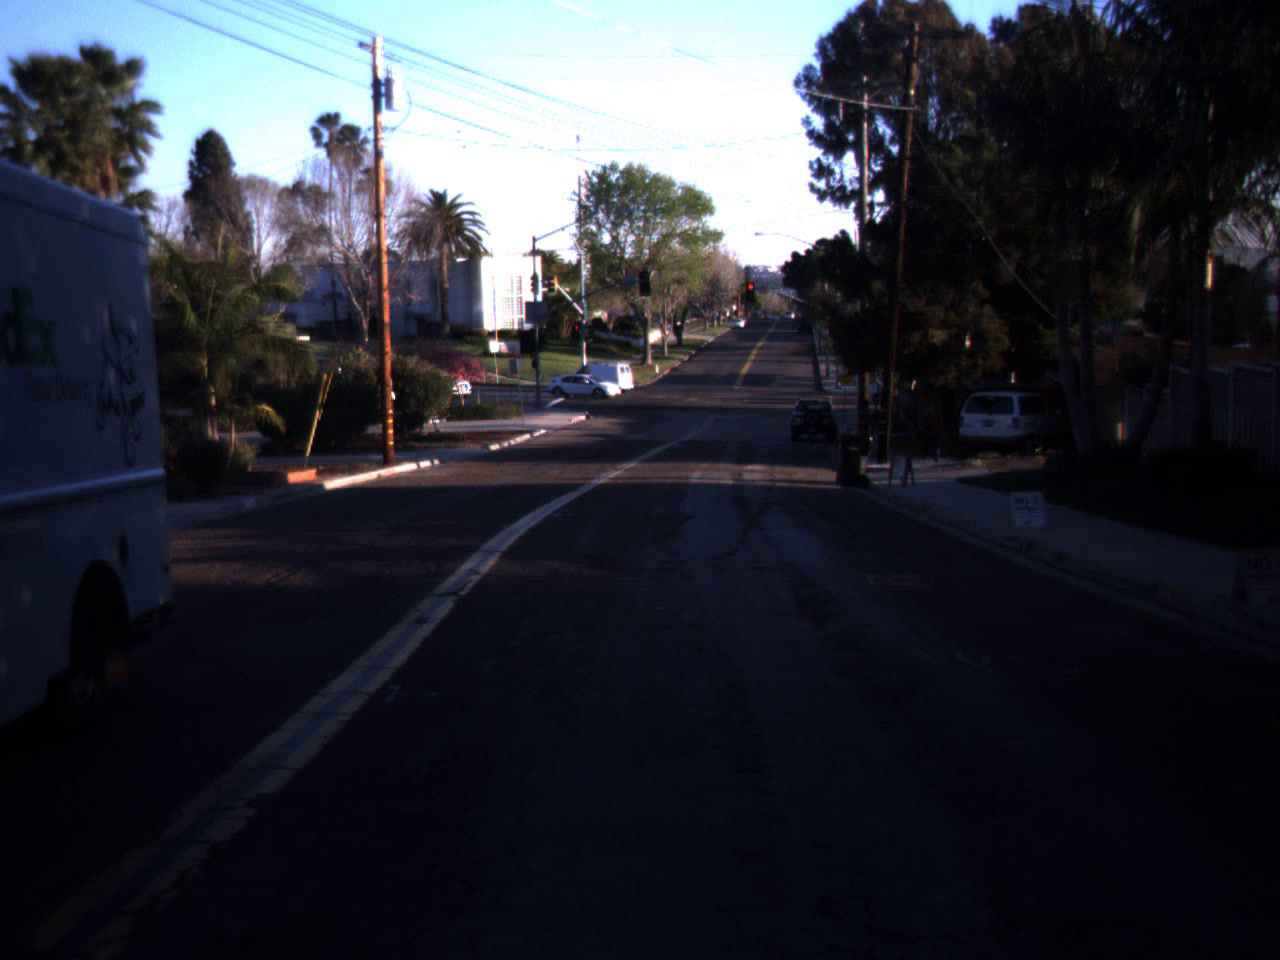stop: (744, 282, 756, 300)
